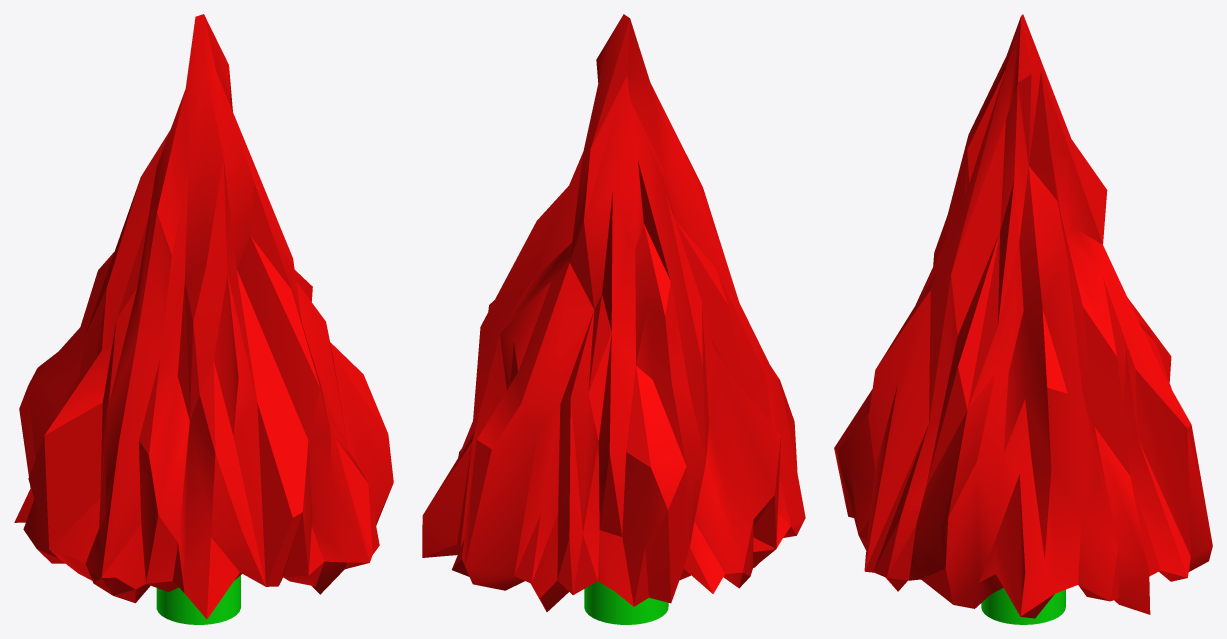
The model's file is Christmas Tree 1.fbx.
The picture shows the model from 3 angles, left to right: view 1: azimuth 30°, elevation 25°; view 2: azimuth 150°, elevation 25°; view 3: azimuth 270°, elevation 25°; orthographic projection.
Visible parts, largest first — view 1: Christmas Tree 1; view 2: Christmas Tree 1; view 3: Christmas Tree 1.
Boxes of the visible parts, x1,y1,x2,y2 form: Christmas Tree 1: (14,14,393,624); Christmas Tree 1: (422,14,805,624); Christmas Tree 1: (834,14,1212,624).
Bounding box in the file's own units: 149 × 253 × 146.
